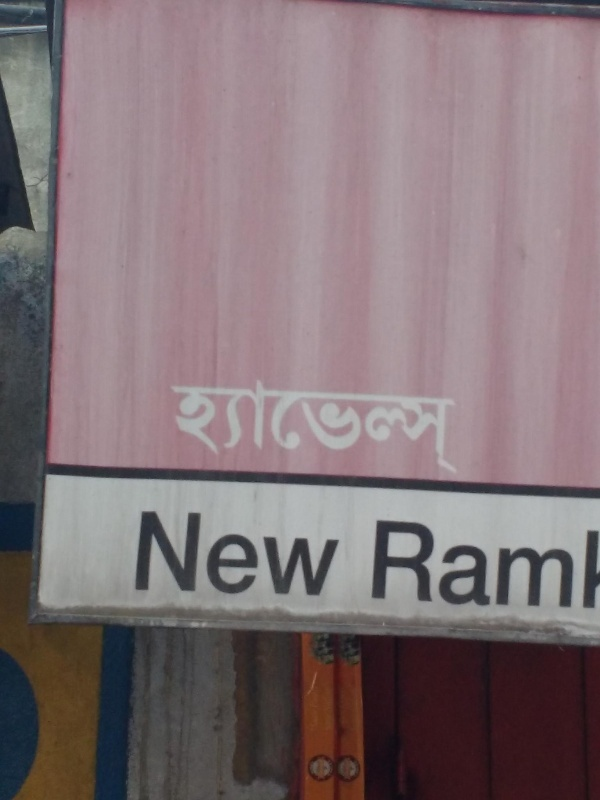text: (449, 379, 465, 476), (177, 379, 192, 476), (193, 379, 208, 476), (209, 379, 224, 476), (225, 379, 240, 476), (241, 379, 256, 476), (257, 379, 272, 476), (273, 379, 288, 476), (289, 379, 304, 476), (305, 379, 320, 476), (321, 379, 336, 476), (337, 379, 352, 476), (353, 379, 368, 476), (369, 379, 384, 476), (385, 379, 400, 476), (401, 379, 416, 476), (417, 379, 432, 476), (433, 379, 448, 476), (145, 503, 160, 597), (161, 503, 176, 597), (177, 503, 192, 597), (193, 503, 208, 597), (209, 503, 224, 597), (225, 503, 240, 597), (241, 503, 256, 597), (257, 503, 272, 597), (273, 503, 288, 597), (289, 503, 304, 597), (305, 503, 320, 597), (321, 503, 336, 597), (385, 519, 400, 610), (401, 519, 416, 610), (417, 519, 432, 610), (433, 519, 448, 610), (449, 519, 464, 610), (465, 519, 480, 610), (481, 519, 496, 610), (497, 519, 512, 610), (513, 519, 528, 610), (529, 519, 544, 610), (545, 519, 560, 610), (561, 519, 574, 610), (375, 519, 384, 610), (170, 379, 176, 476), (337, 503, 343, 597), (586, 529, 592, 609), (593, 529, 599, 609), (140, 503, 144, 597)
